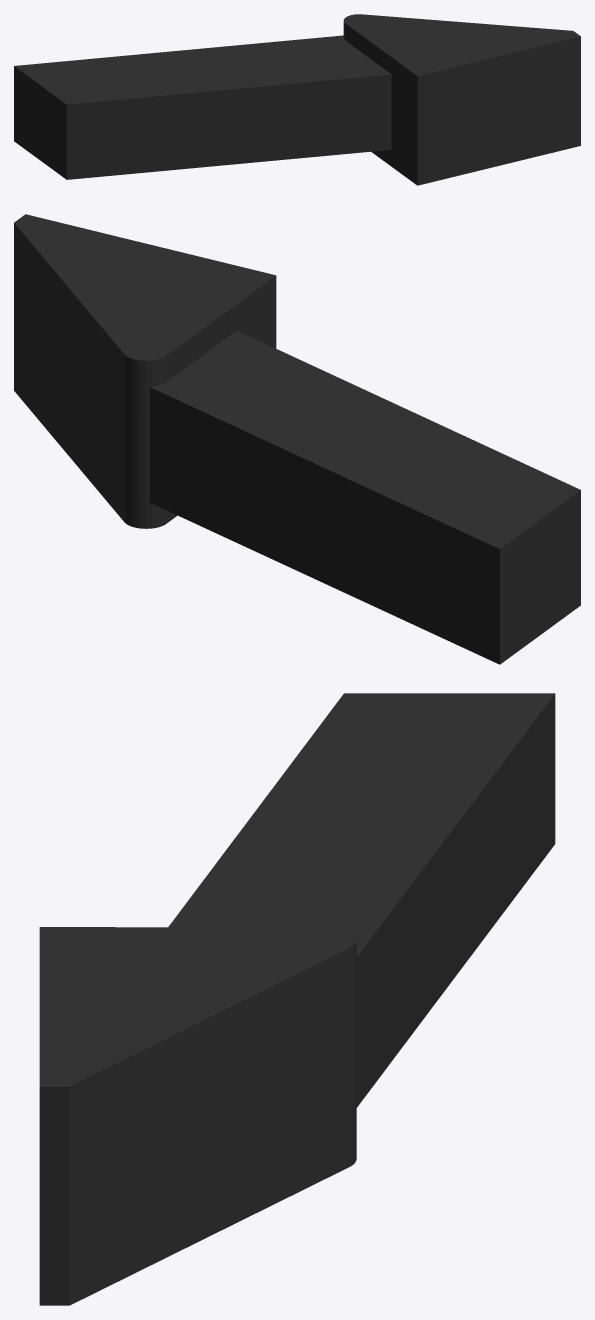
Rendered from TR5_Finger.dae.
The picture shows the model from 3 angles, top to bottom: view 1: azimuth 30°, elevation 25°; view 2: azimuth 150°, elevation 25°; view 3: azimuth 270°, elevation 25°; orthographic projection. The views are drawn at different scales.
Visible parts, largest first — view 1: GripperFinger_left; view 2: GripperFinger_left; view 3: GripperFinger_left.
Boxes of the visible parts, <box> form: GripperFinger_left: <box>14,14,580,185</box>; GripperFinger_left: <box>14,214,580,664</box>; GripperFinger_left: <box>39,693,555,1305</box>.
Bounding box in the file's own units: 0.067 × 0.0342 × 0.016.
Materials: 1 (1 with a texture image).
